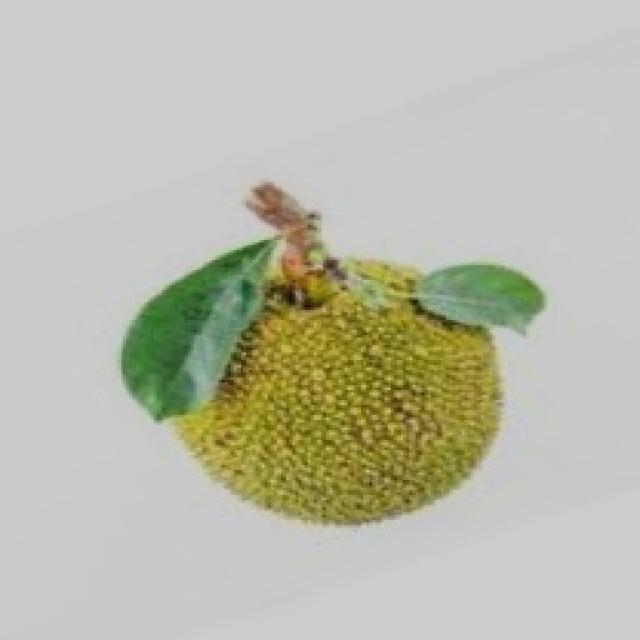Fruit: (132, 250, 530, 555)
